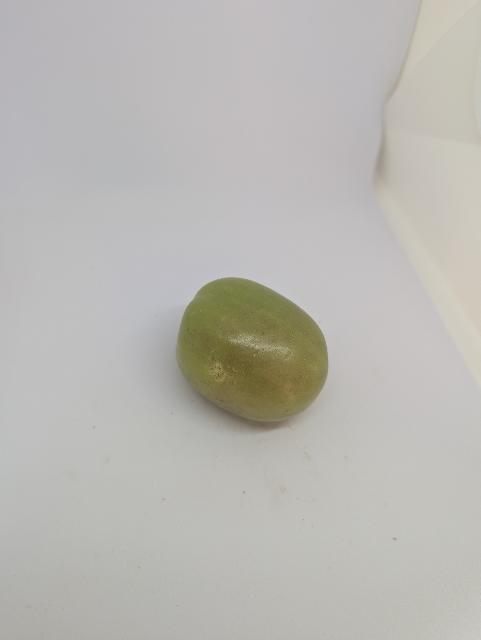green: (162, 264, 340, 430)
